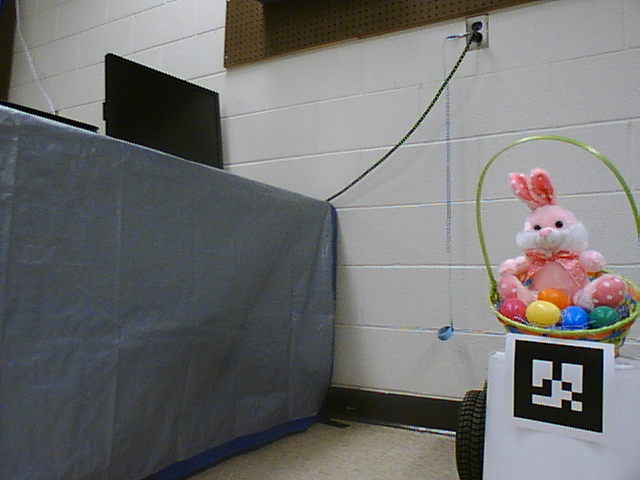bunny: (468, 135, 640, 374)
